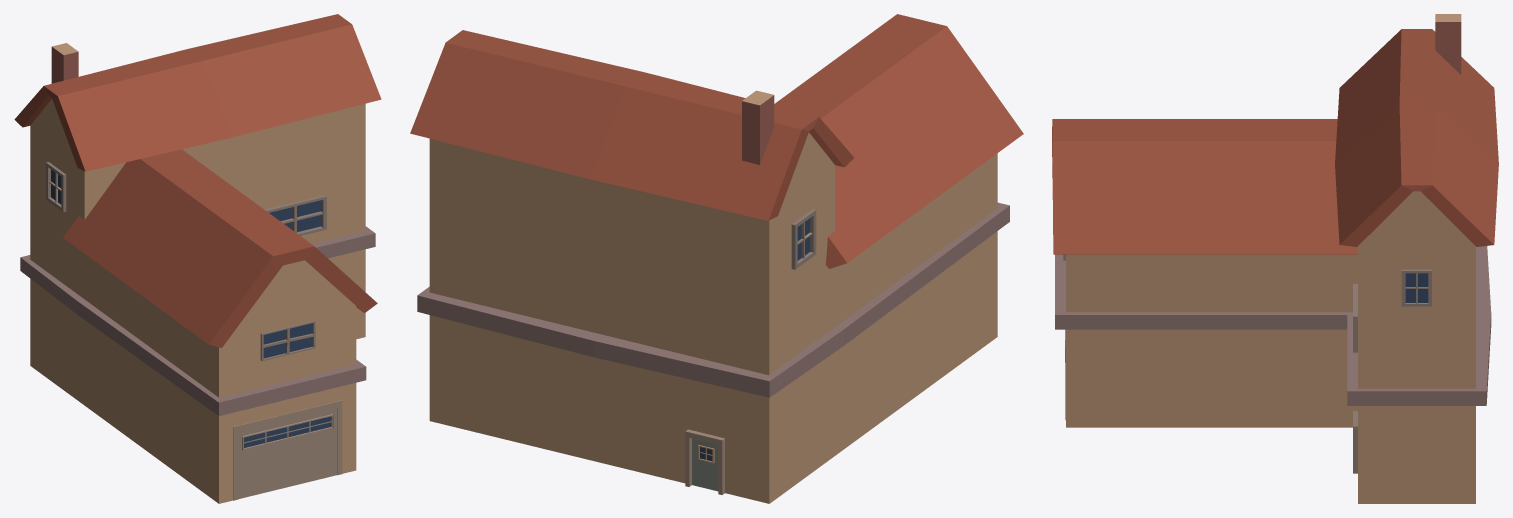
Rendered from houses.glb.
3 views of the same model, side by side, from view 1: azimuth 30°, elevation 25°; view 2: azimuth 150°, elevation 25°; view 3: azimuth 270°, elevation 25° (orthographic). The views are drawn at different scales.
Parts seen in each view (by area): view 1: house; view 2: house; view 3: house.
Boxes of the visible parts, x1,y1,x2,y2 form: house: (14, 14, 381, 503); house: (410, 14, 1023, 503); house: (1052, 14, 1498, 503).
Bounding box in the file's own units: 21.83 × 21.98 × 25.53.
